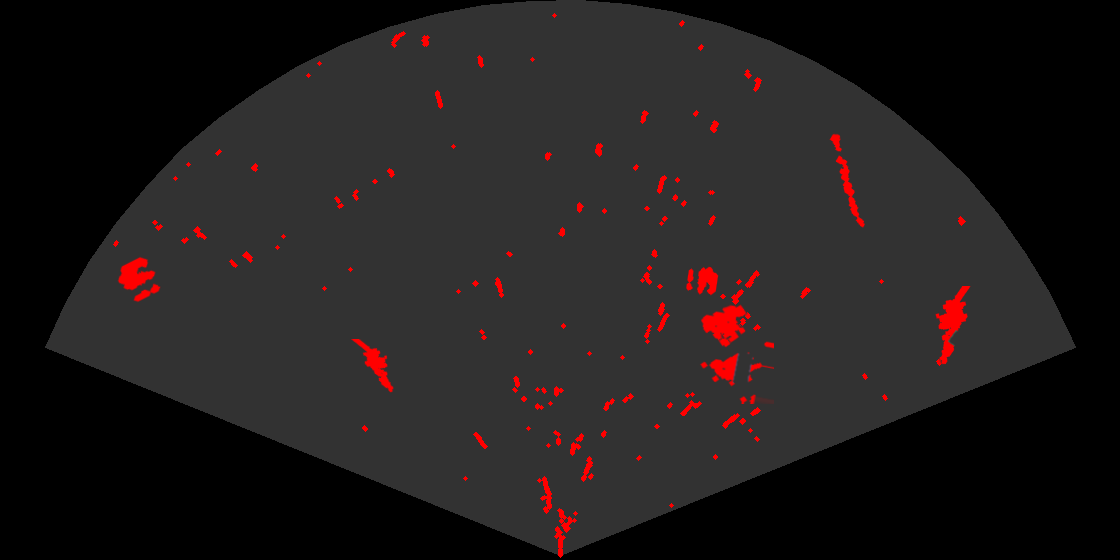ball: (116, 255, 162, 304), (685, 265, 720, 297)
cage: (698, 303, 774, 404)
chain: (828, 131, 866, 229)
frogman: (934, 286, 972, 366), (351, 339, 395, 394)
